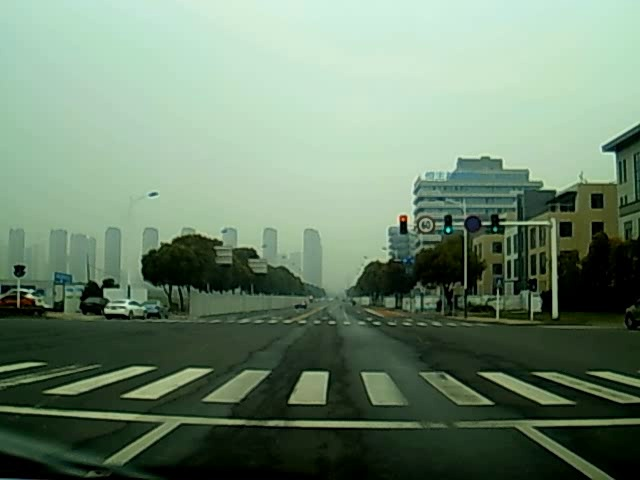Traffic_Light_go: (490, 216, 499, 238), (443, 215, 451, 235)
Traffic_Light_stop: (400, 215, 407, 236)
